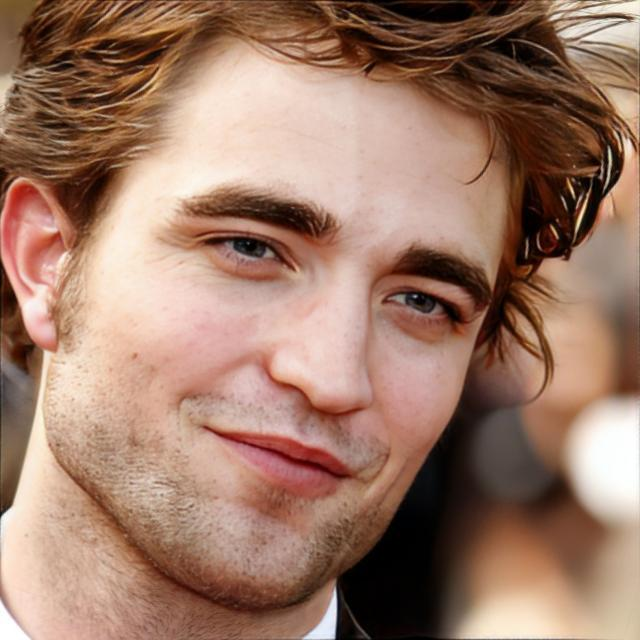content: (57, 52, 495, 605)
